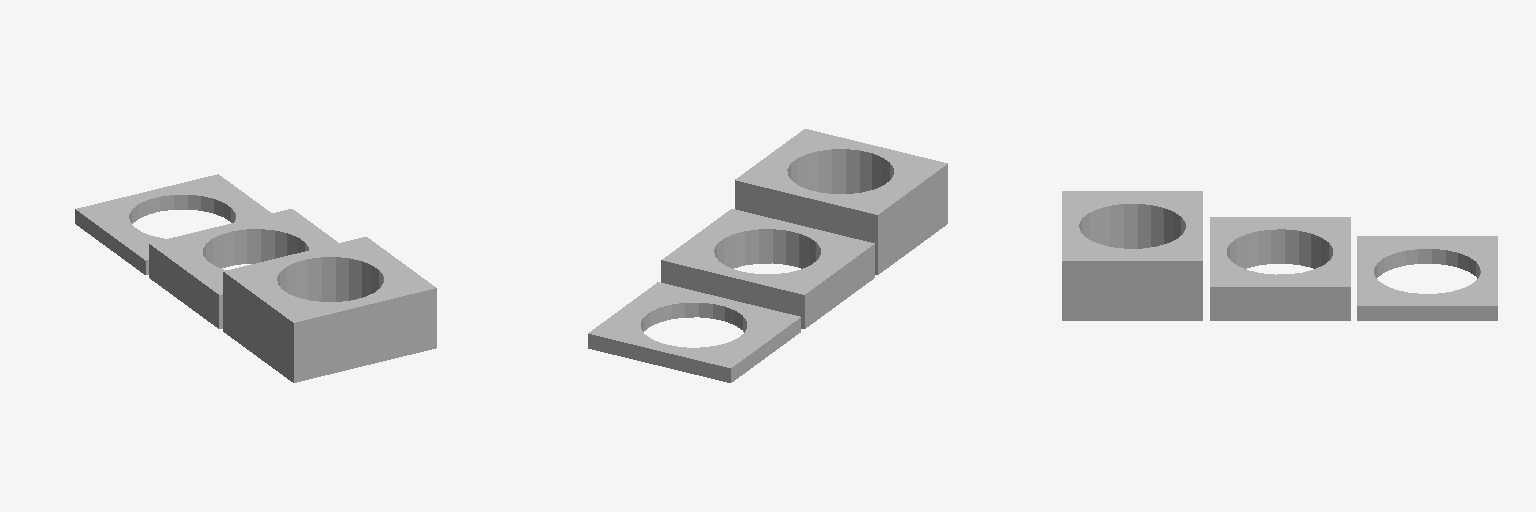
File: spacer.obj
The picture shows the model from 3 angles: view 1: azimuth 30°, elevation 25°; view 2: azimuth 150°, elevation 25°; view 3: azimuth 270°, elevation 25°; orthographic projection.
Parts seen in each view (by area): view 1: Mesh2 Group1 Model, Mesh1 Group1 Model, Mesh3 Group1 Model; view 2: Mesh2 Group1 Model, Mesh1 Group1 Model, Mesh3 Group1 Model; view 3: Mesh2 Group1 Model, Mesh1 Group1 Model, Mesh3 Group1 Model.
Part boxes in pixels (x1,y1,x2,y2): Mesh2 Group1 Model: (223,237,436,382); Mesh1 Group1 Model: (149,209,337,328); Mesh3 Group1 Model: (75,174,271,274); Mesh2 Group1 Model: (735,129,947,274); Mesh1 Group1 Model: (661,209,874,328); Mesh3 Group1 Model: (588,282,800,382); Mesh2 Group1 Model: (1062,191,1202,320); Mesh1 Group1 Model: (1210,217,1350,320); Mesh3 Group1 Model: (1357,236,1497,320).
Bounding box in the file's own units: 11.62 × 4.65 × 30.48.